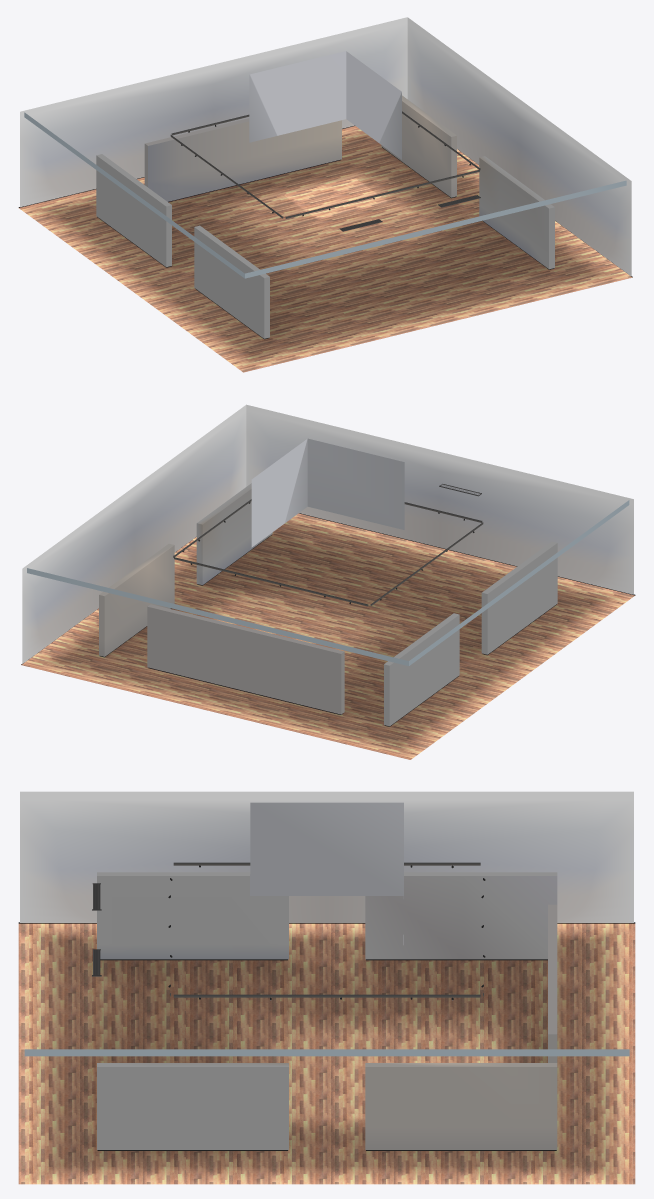
The model's file is gallery_small.glb.
The picture shows the model from 3 angles, top to bottom: view 1: azimuth 30°, elevation 25°; view 2: azimuth 150°, elevation 25°; view 3: azimuth 270°, elevation 25°; orthographic projection. The views are drawn at different scales.
Parts seen in each view (by area): view 1: TexturedFloor, VertexColor, Wall, Wall.003; view 2: TexturedFloor, VertexColor, Wall.004, Wall.003; view 3: TexturedFloor, VertexColor, Wall.002.
Part boxes in pixels (<box>): TexturedFloor: <box>19,126,632,372</box>; VertexColor: <box>24,51,626,339</box>; Wall: <box>18,17,407,207</box>; Wall.003: <box>407,17,632,277</box>; TexturedFloor: <box>21,513,634,759</box>; VertexColor: <box>27,438,629,726</box>; Wall.004: <box>246,404,635,595</box>; Wall.003: <box>21,405,246,664</box>; TexturedFloor: <box>18,923,635,1184</box>; VertexColor: <box>24,802,629,1150</box>; Wall.002: <box>18,791,635,923</box>.
Bounding box in the file's own units: 28.28 × 10.87 × 28.1.
2 materials, 1 textured.
